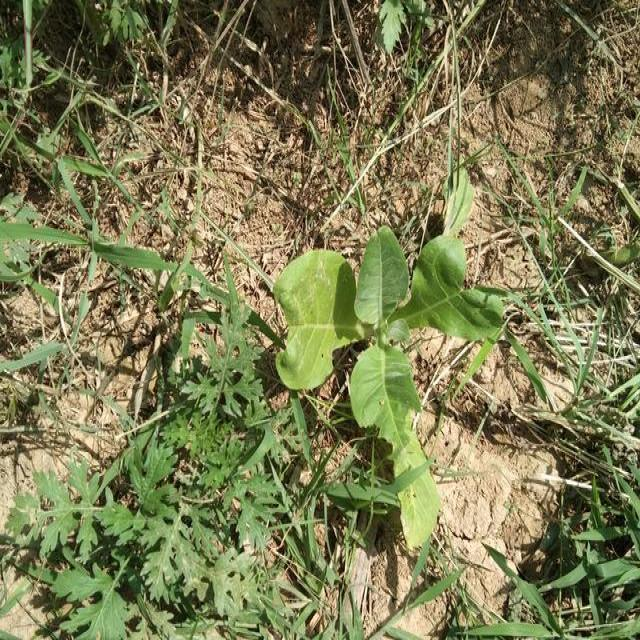crop: (278, 243, 501, 529)
